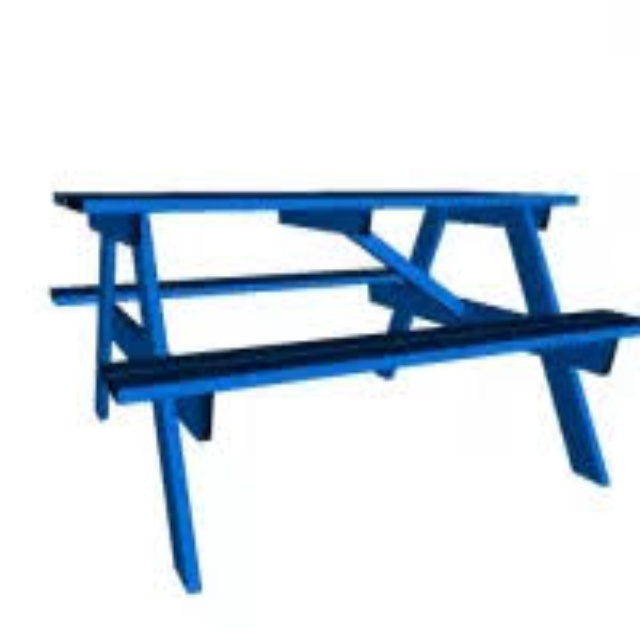obstacle: (32, 153, 630, 580)
